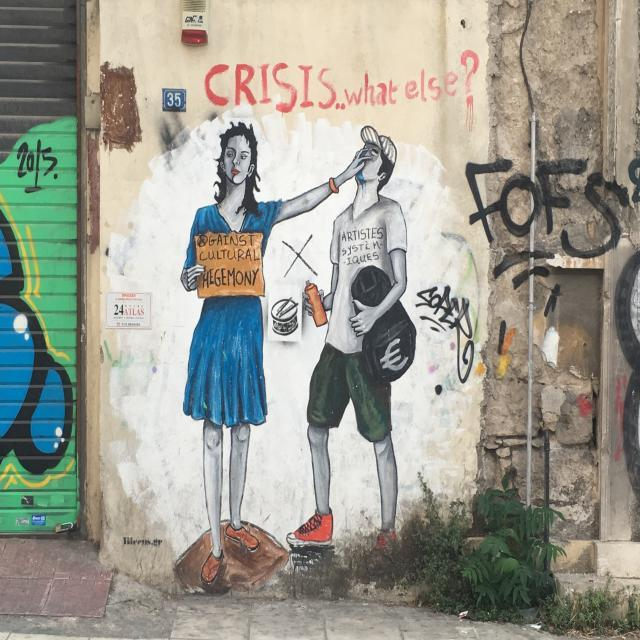-: (174, 128, 412, 596), (0, 116, 80, 534), (462, 158, 629, 313), (206, 51, 476, 108), (614, 249, 640, 510), (421, 280, 474, 386)
